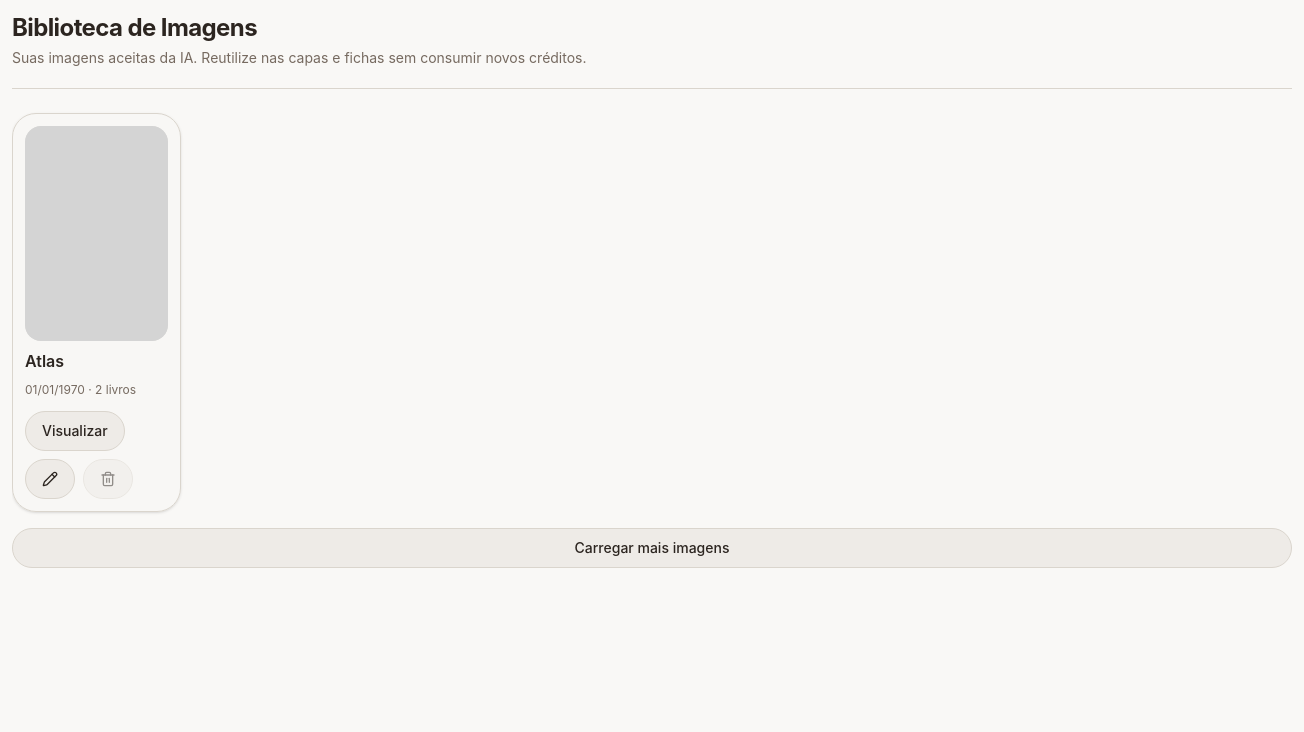
Test: image library › paginates and blocks deletion of images in use
The width and height of the screenshot is (1304, 732).
Expected: the button named "Excluir Atlas" is disabled, x1=83 y1=459 x2=133 y2=499
Click the button "Carregar mais imagens". click: (652, 548)
box: x1=12 y1=528 x2=1292 y2=568
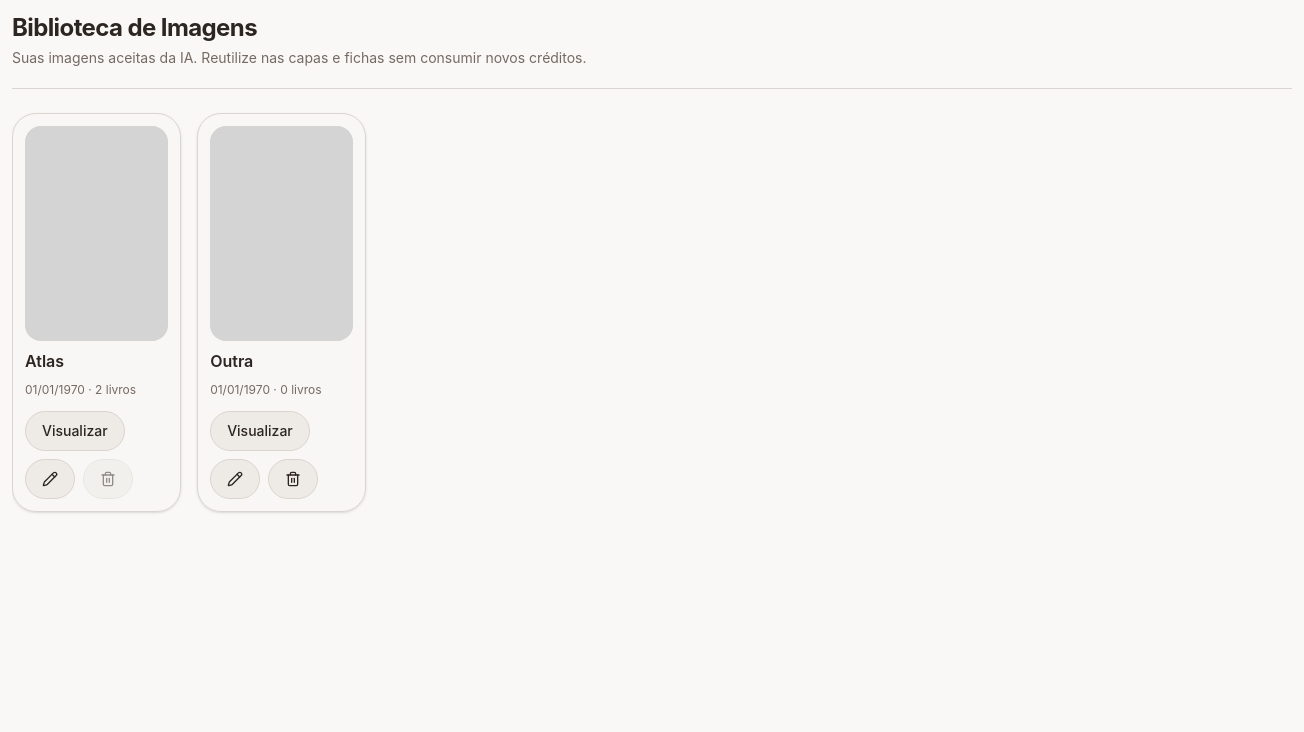
Expected: the text "Atlas" is shown, x1=25 y1=351 x2=64 y2=371
Expected: the text "Outra" is shown, x1=210 y1=351 x2=253 y2=371
